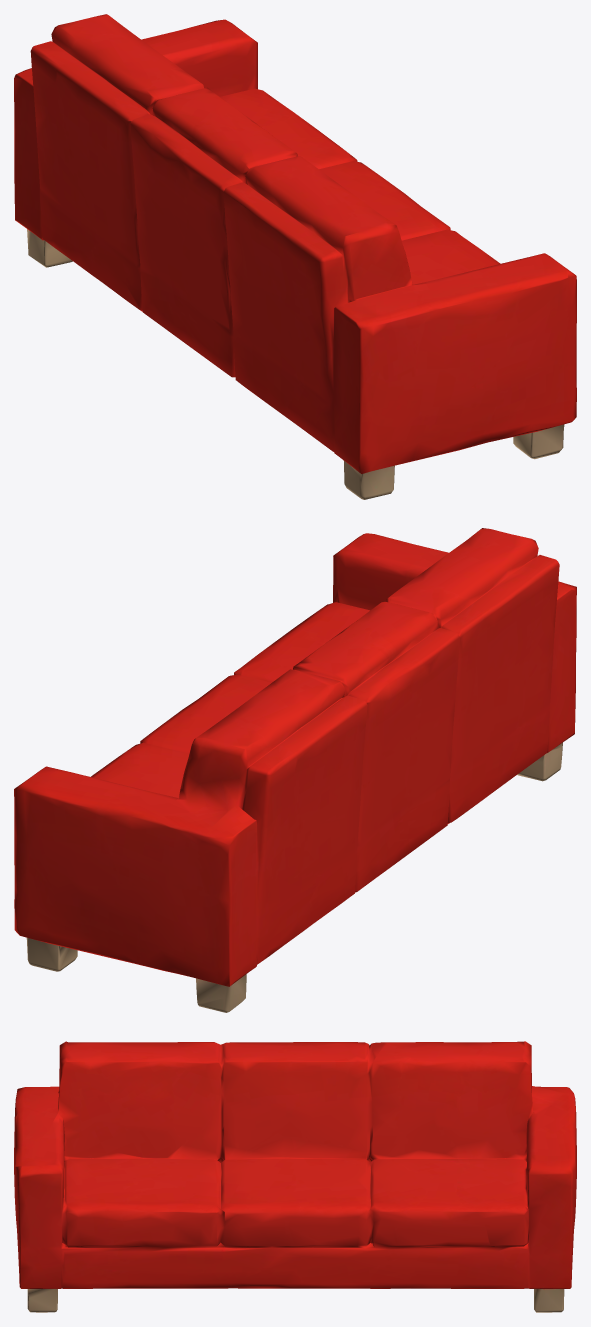
File: couch.glb
3 renders of one model, top to bottom at view 1: azimuth 30°, elevation 25°; view 2: azimuth 150°, elevation 25°; view 3: azimuth 270°, elevation 25°, orthographic. The views are drawn at different scales.
Parts seen in each view (by area): view 1: tripo_node_b7d4e168-1445-4383-a792-4ca7274b3db7; view 2: tripo_node_b7d4e168-1445-4383-a792-4ca7274b3db7; view 3: tripo_node_b7d4e168-1445-4383-a792-4ca7274b3db7.
Part boxes in pixels (x1,y1,x2,y2): tripo_node_b7d4e168-1445-4383-a792-4ca7274b3db7: (14,14,576,499); tripo_node_b7d4e168-1445-4383-a792-4ca7274b3db7: (14,528,576,1012); tripo_node_b7d4e168-1445-4383-a792-4ca7274b3db7: (14,1041,576,1312).
Size of the model in its own units: 0.383 by 0.3882 by 1.
Materials: 1 (1 with a texture image).
